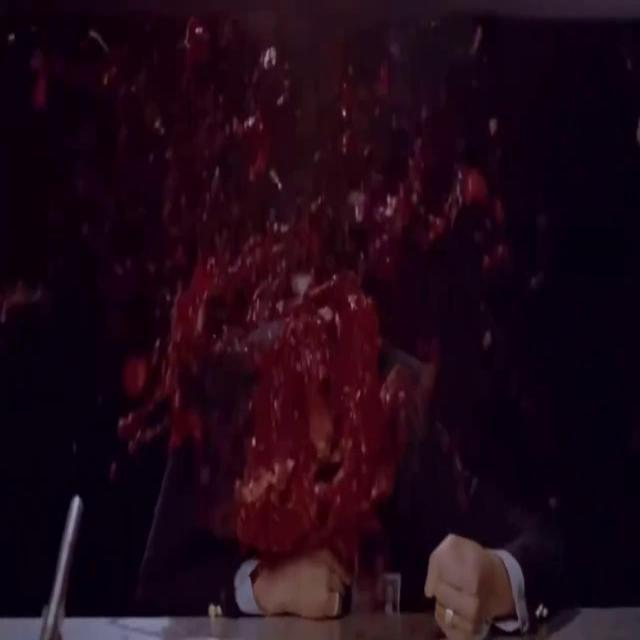flood: (16, 9, 602, 524)
